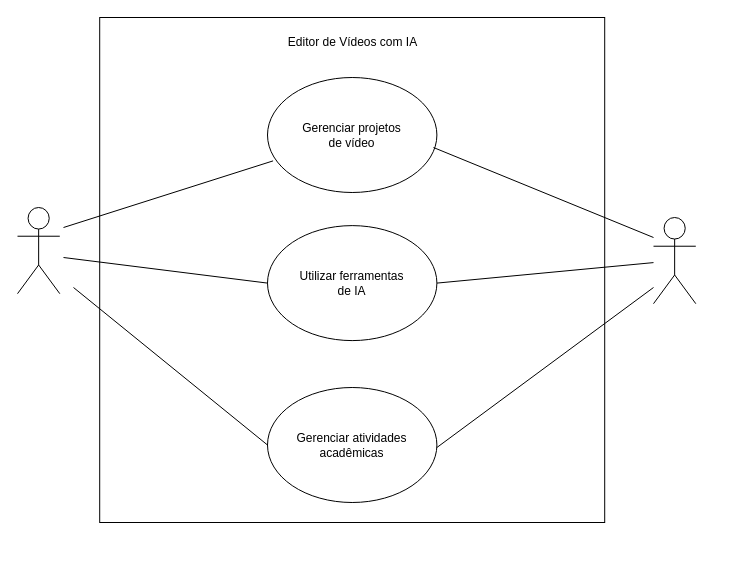
The diagram is 735 pixels wide and 585 high, and some of its shapes have lost their labels. The shapes that lost their labels are listed below. From the top down, each one's centre as x and y in pixels, then its label:
At point (38, 250): "Aluno1".
At point (674, 260): "Aluno2".
